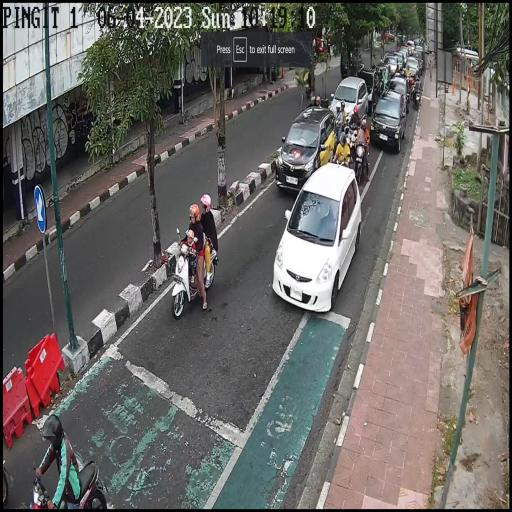mobil: (274, 160, 360, 311), (274, 105, 336, 191), (370, 88, 406, 157), (328, 75, 369, 132), (354, 65, 380, 113), (387, 76, 410, 113), (380, 51, 400, 74), (406, 54, 420, 77), (392, 50, 405, 68)
motor: (173, 228, 215, 321), (353, 139, 369, 183), (346, 120, 359, 164), (414, 88, 420, 110)
